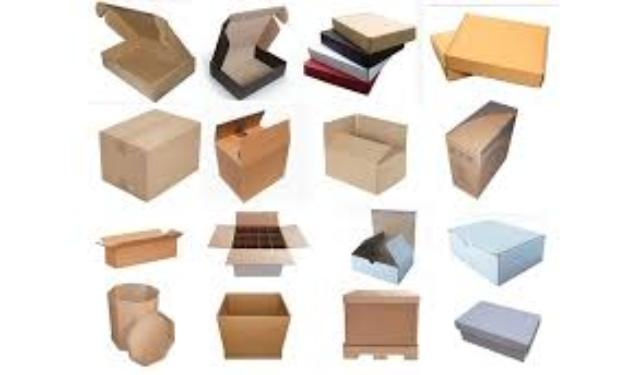cardboard paper: (94, 105, 199, 201), (299, 7, 415, 92), (426, 9, 548, 85), (94, 0, 190, 96), (428, 11, 544, 83), (205, 0, 286, 98), (441, 96, 515, 197), (203, 205, 308, 275), (319, 109, 406, 192), (446, 216, 544, 286), (214, 109, 286, 197), (100, 280, 173, 365), (450, 297, 542, 363), (339, 286, 419, 358), (345, 205, 415, 284), (212, 288, 288, 358), (92, 225, 181, 266)
